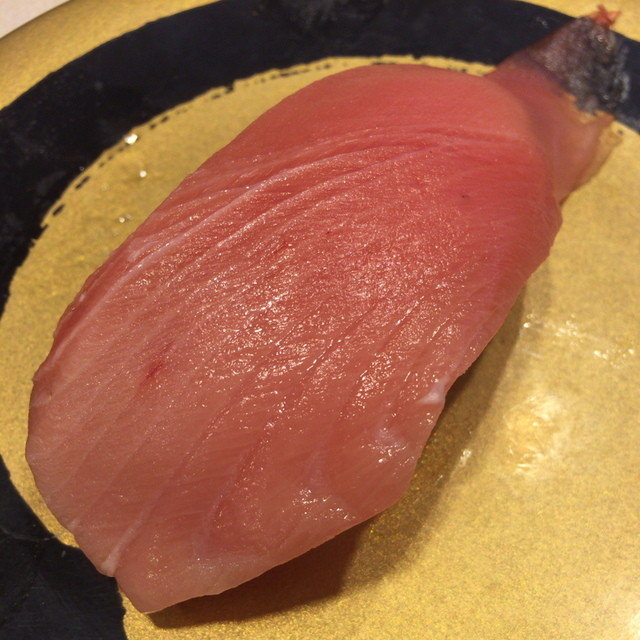medium_fatty_tuna: (34, 8, 580, 596)
